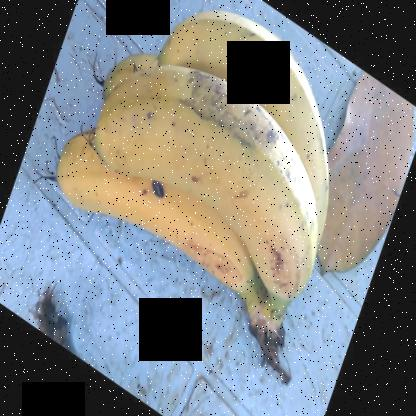ripe: (100, 65, 334, 314)
